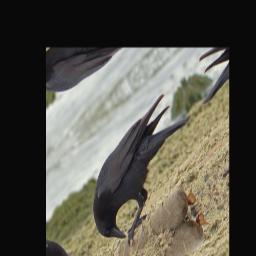Crow: (73, 80, 216, 256)
